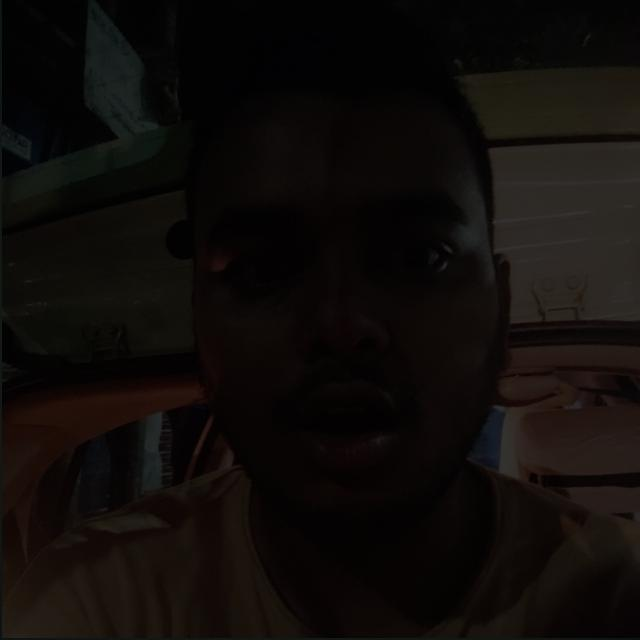Surprised: (192, 105, 540, 514)
